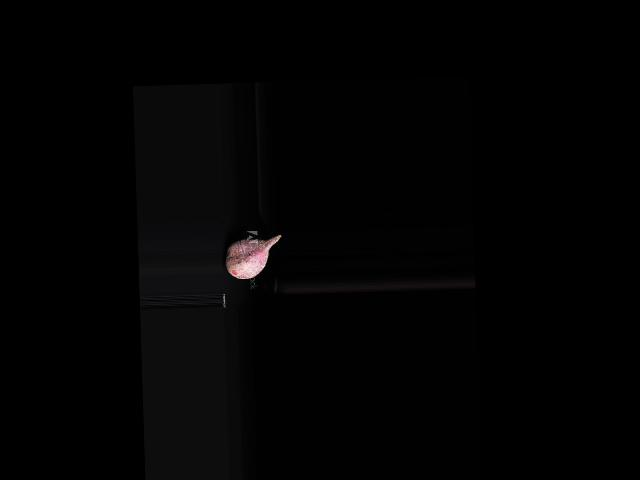beet: (225, 235, 282, 280)
